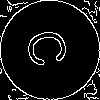C: (25, 25, 78, 70)
